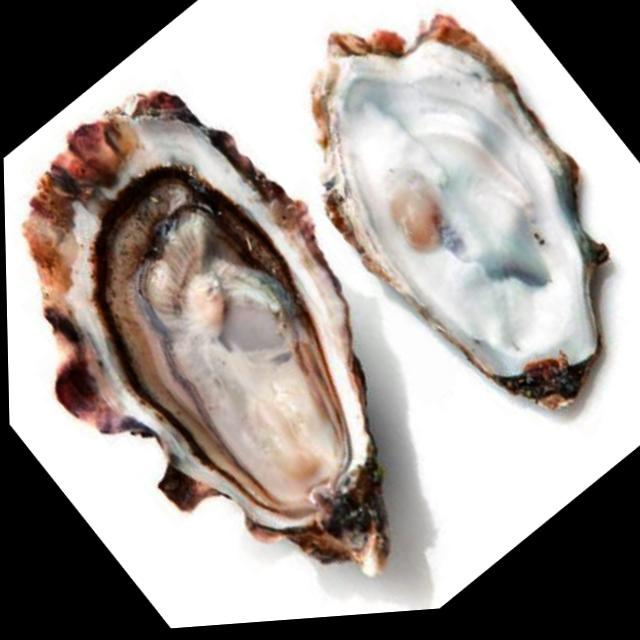Oyster-Open: (20, 89, 383, 564), (308, 14, 611, 412)
